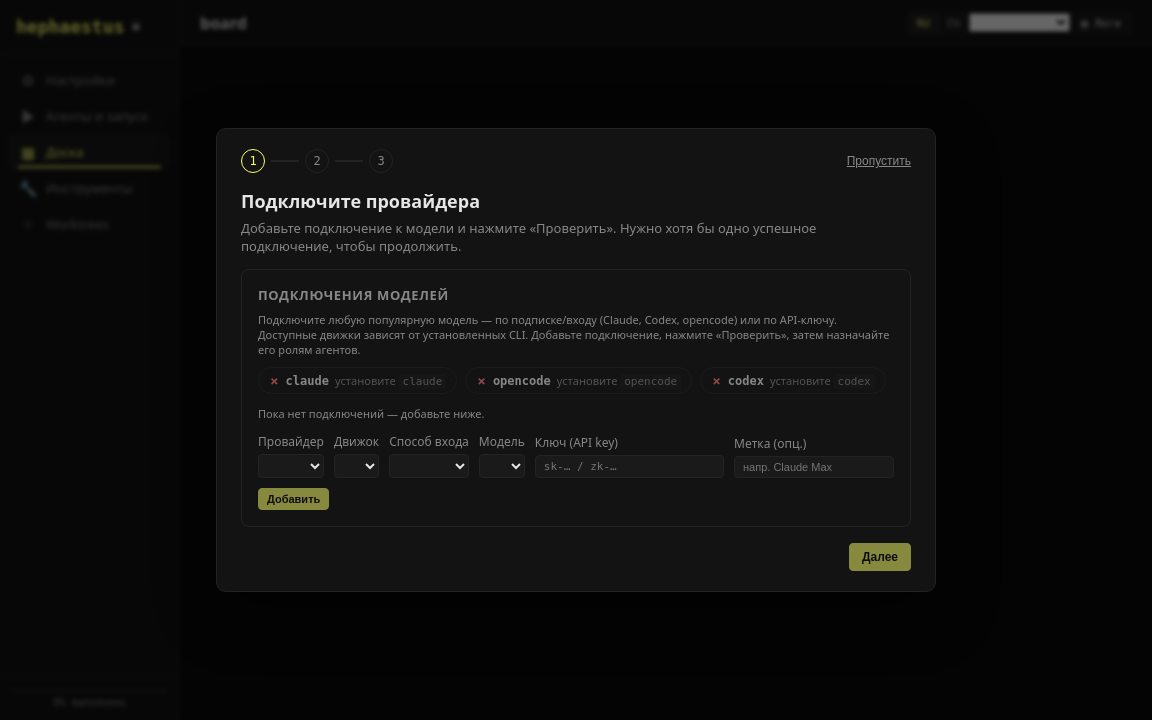
AppShell › replaces the wizard with a banner after skip
Click the button with test id "wiz-skip": {"x": 879, "y": 161} [847,154,911,168]
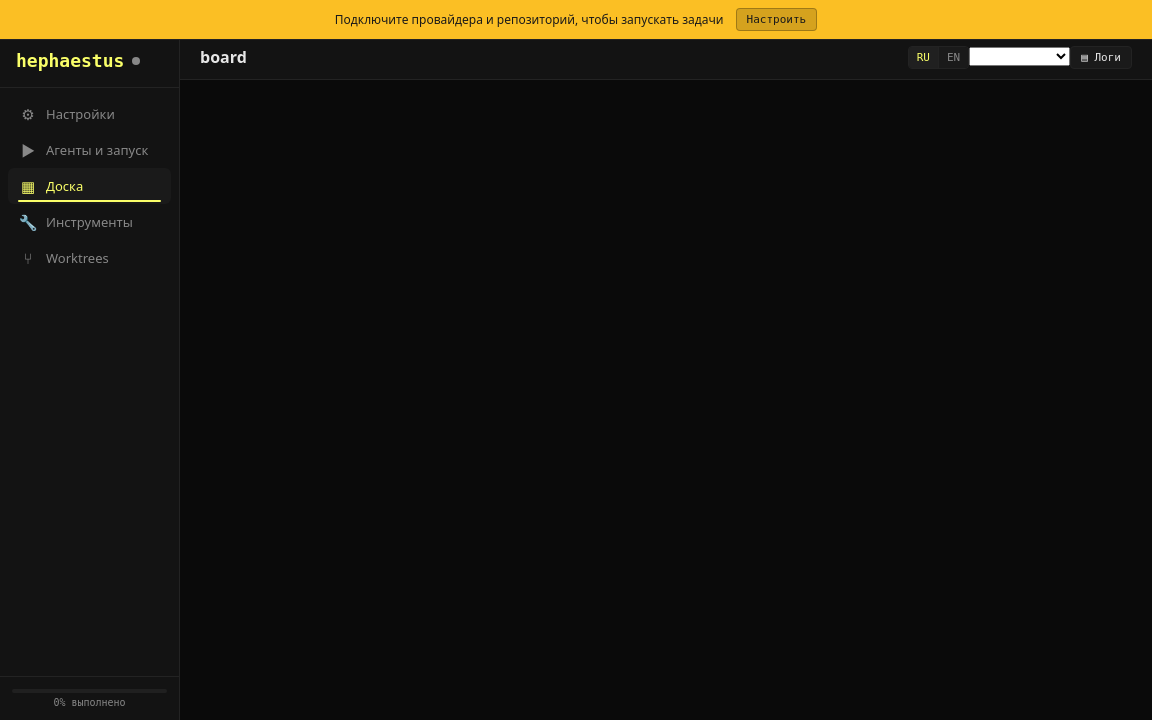
Expected: the element with test id "onboard-banner" is shown, [0,0,1151,40]
